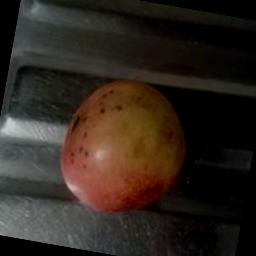Mango Unripe: (38, 50, 224, 236)
